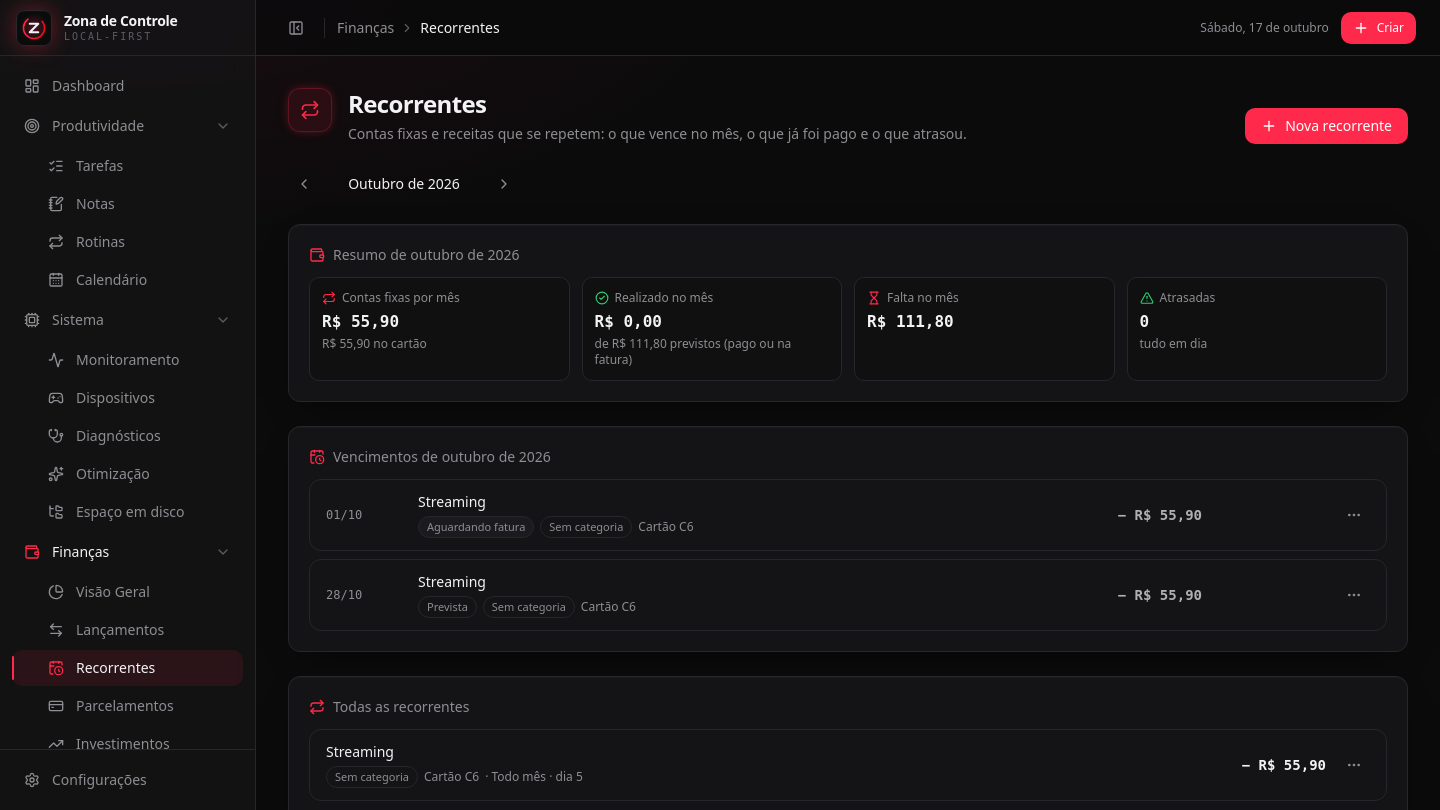
it: página de Recorrentes › recorrente no cartão não tem Pagar: espera a fatura
Expected: the text "Aguardando fatura" is shown, [418,516,534,538]
Expected: the text "Prevista" is shown, [418,596,477,618]
Click the button named "Ações do vencimento “Streaming”" at (1354, 515), box [1338,499,1370,531]
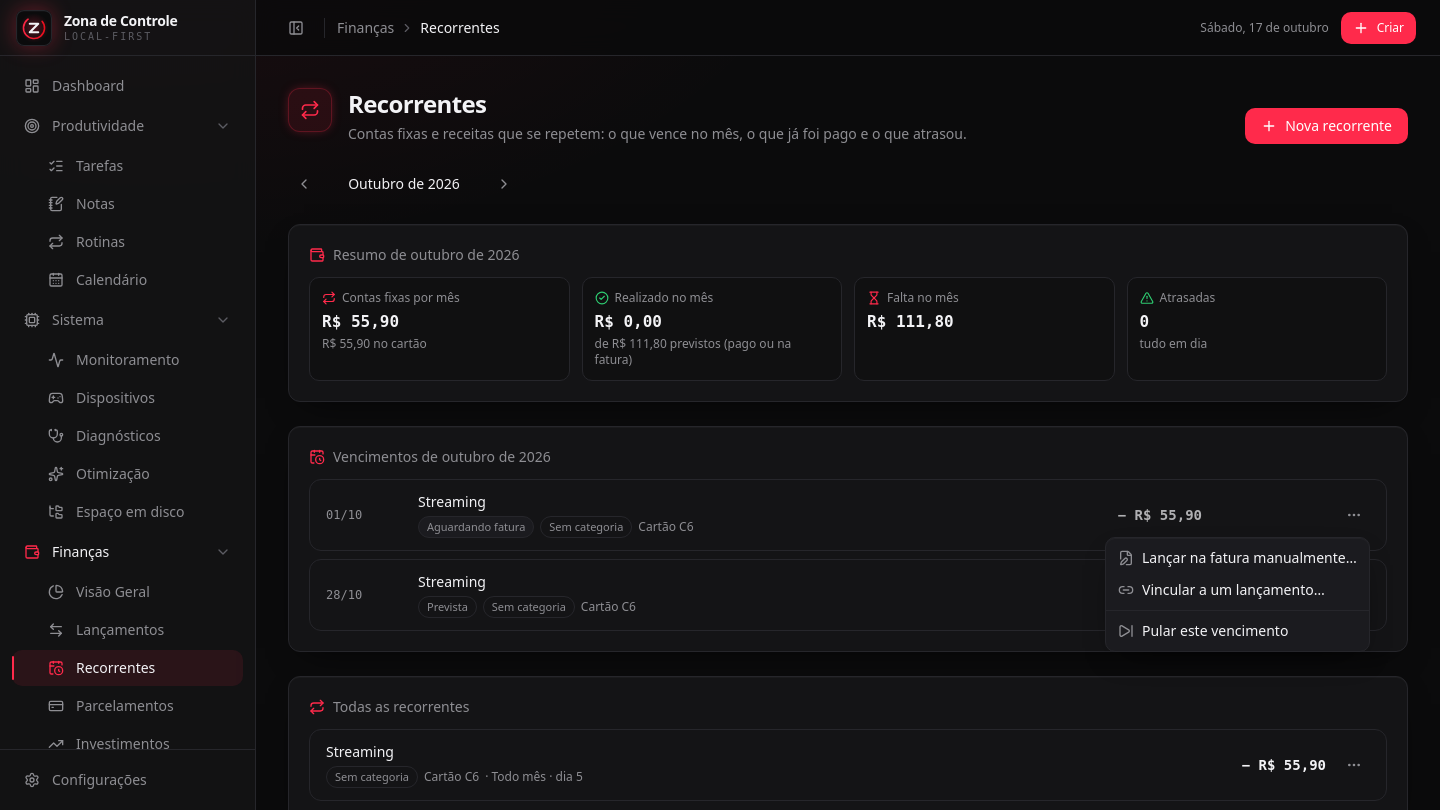
Expected: the menu item "Lançar na fatura manualmente…" is shown, [1118,548,1357,567]
